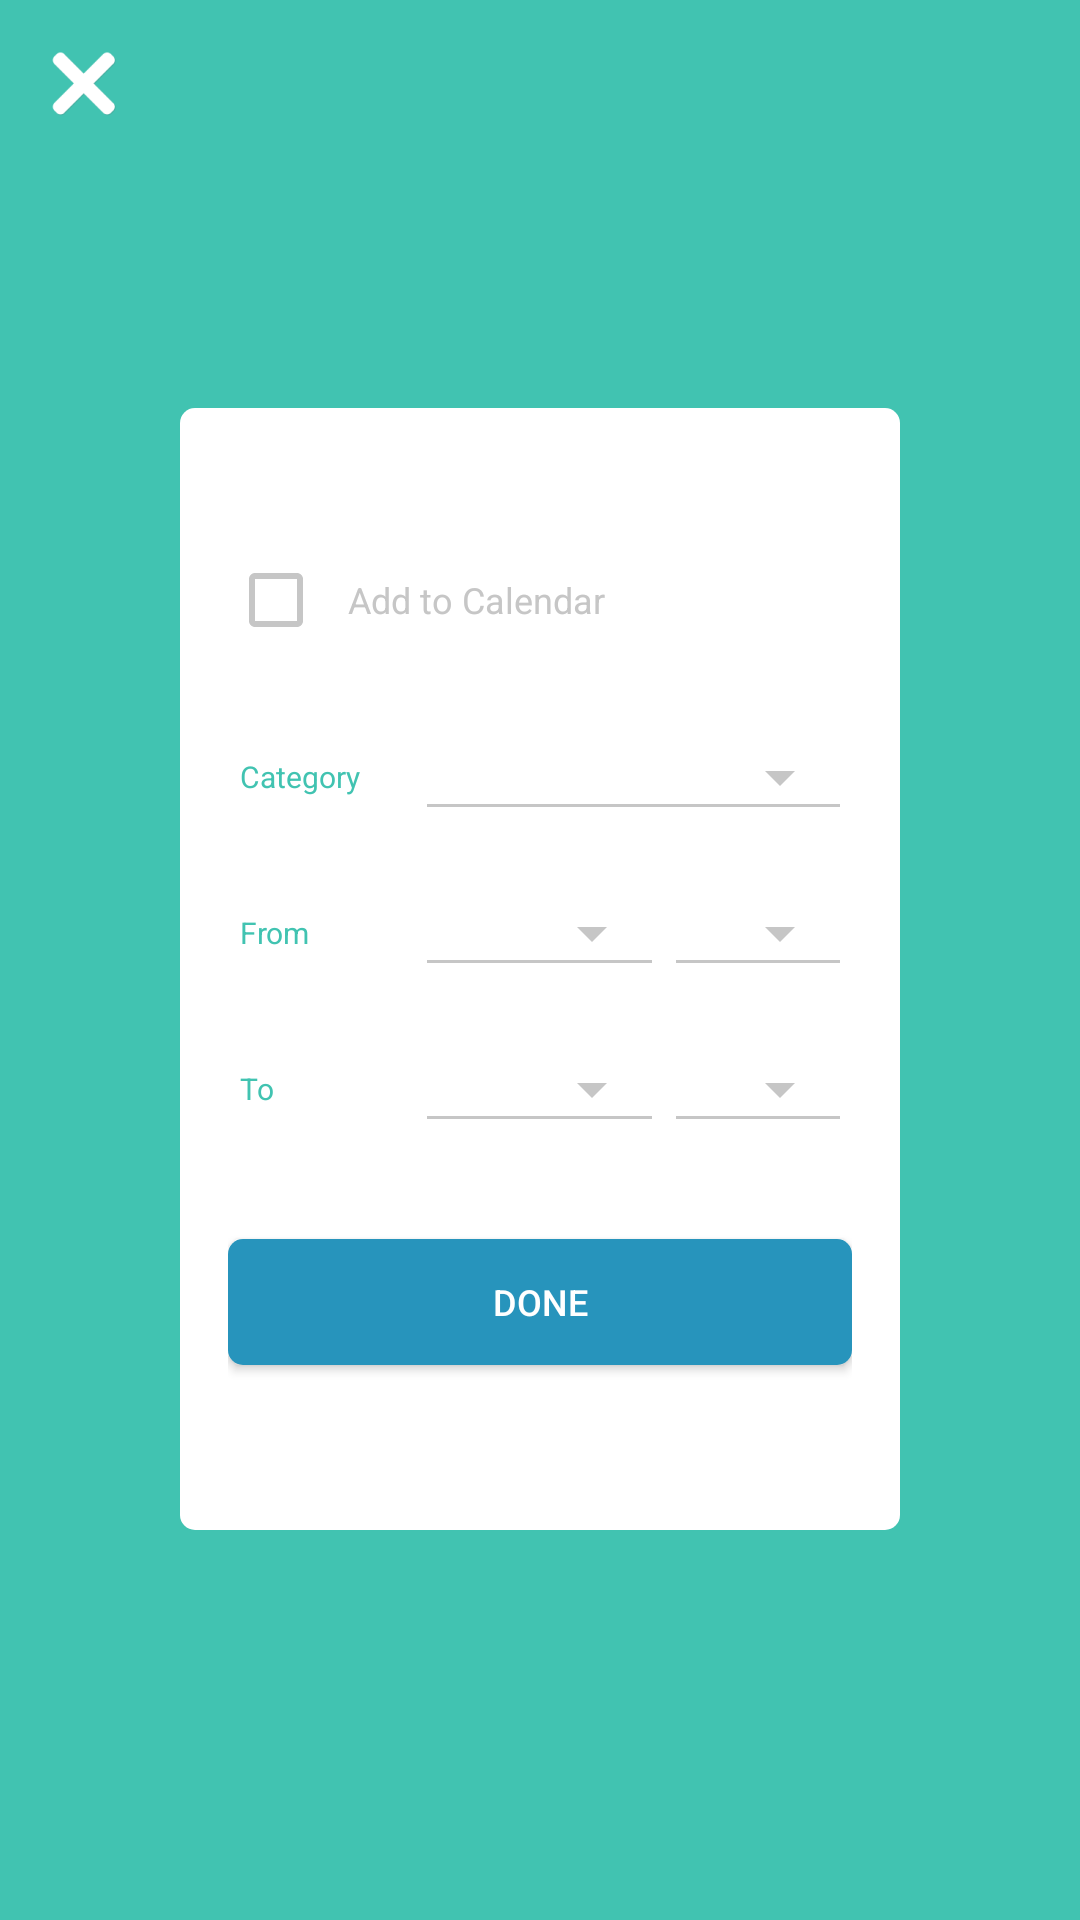

Where to tap for icons on this 1080×1920 app screen, as point (x, y):
close: point (83, 83)
